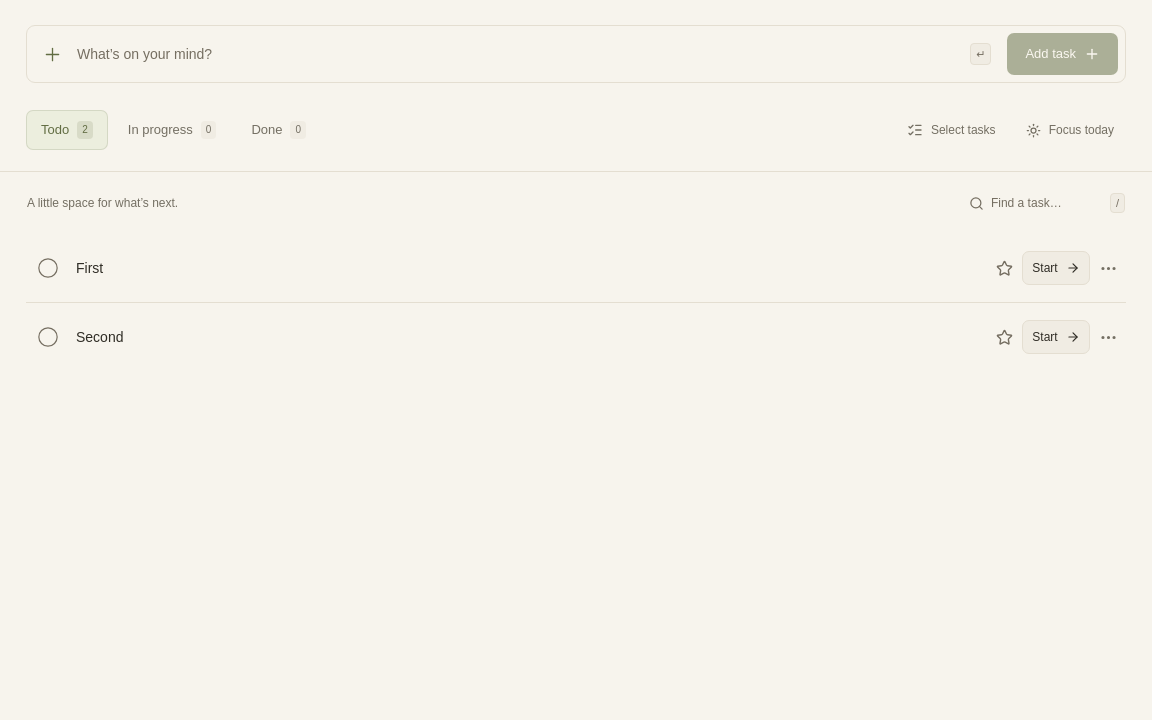
Test: places selection before Focus today and resets the destination when cancelled from that button
Click the button "Select tasks" at [951, 130], box [895,108,1008,152]
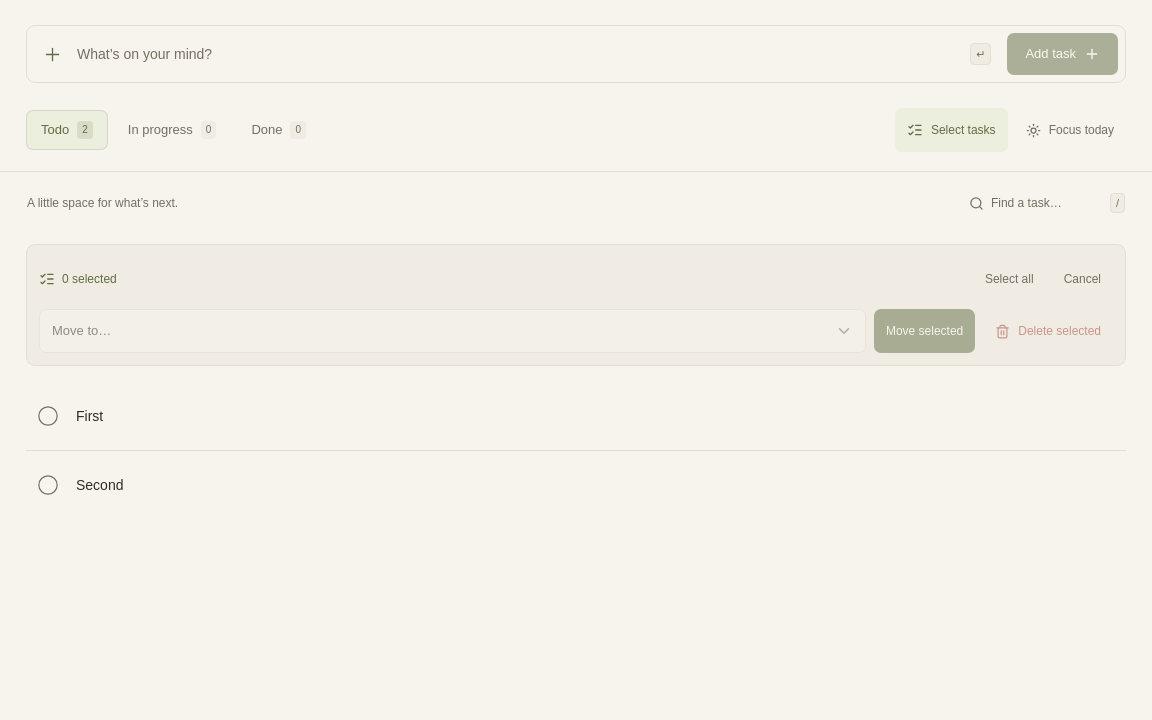
Click the button "Select all" at [1009, 279], box [973,257,1046,301]
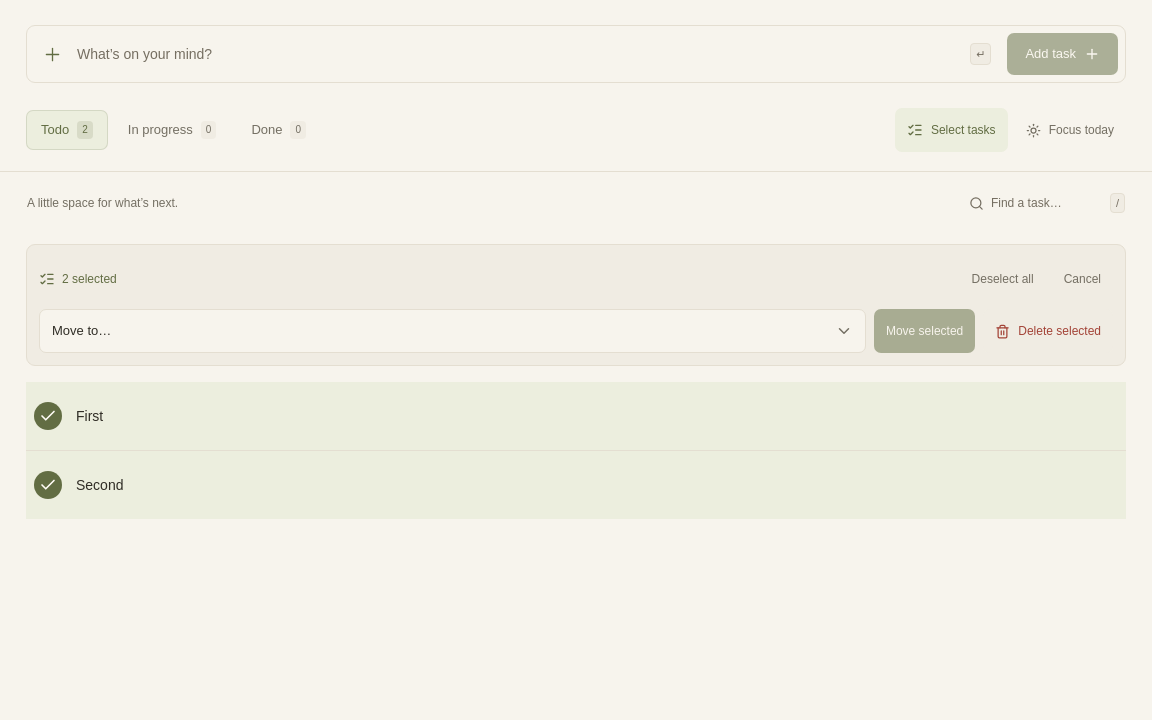
Press ArrowDown in the button "Move to…", box [39,309,866,353]
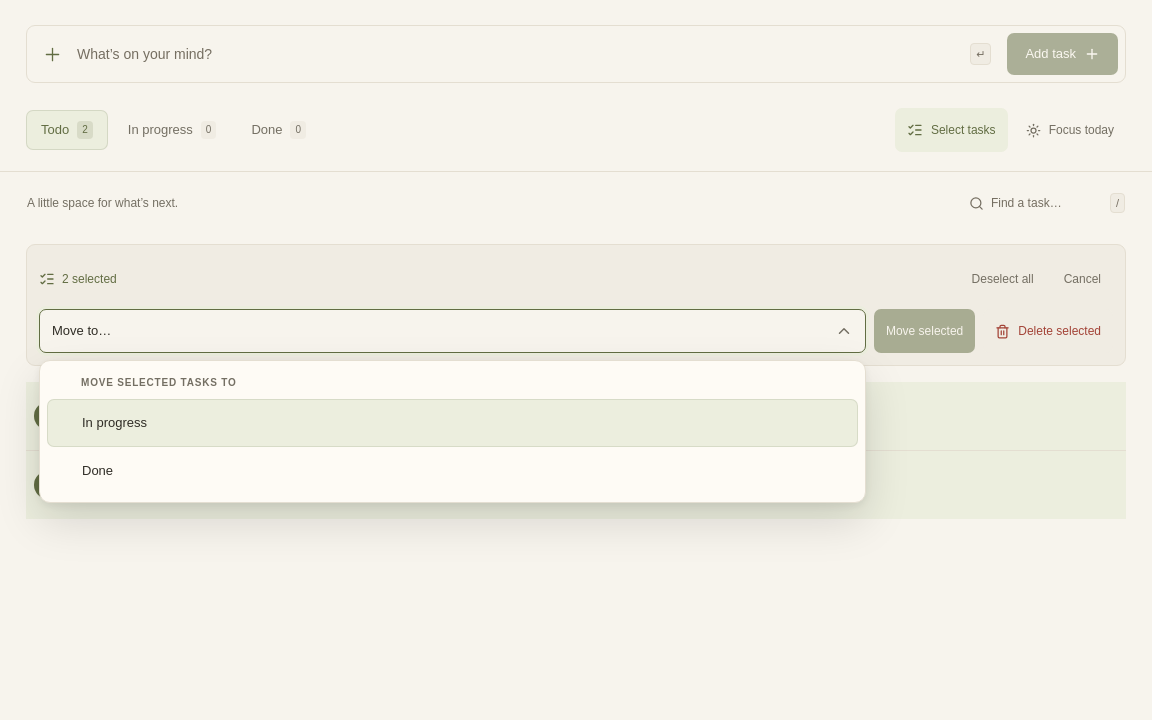
Press Enter in the menu item "Done", box [82,463,113,478]
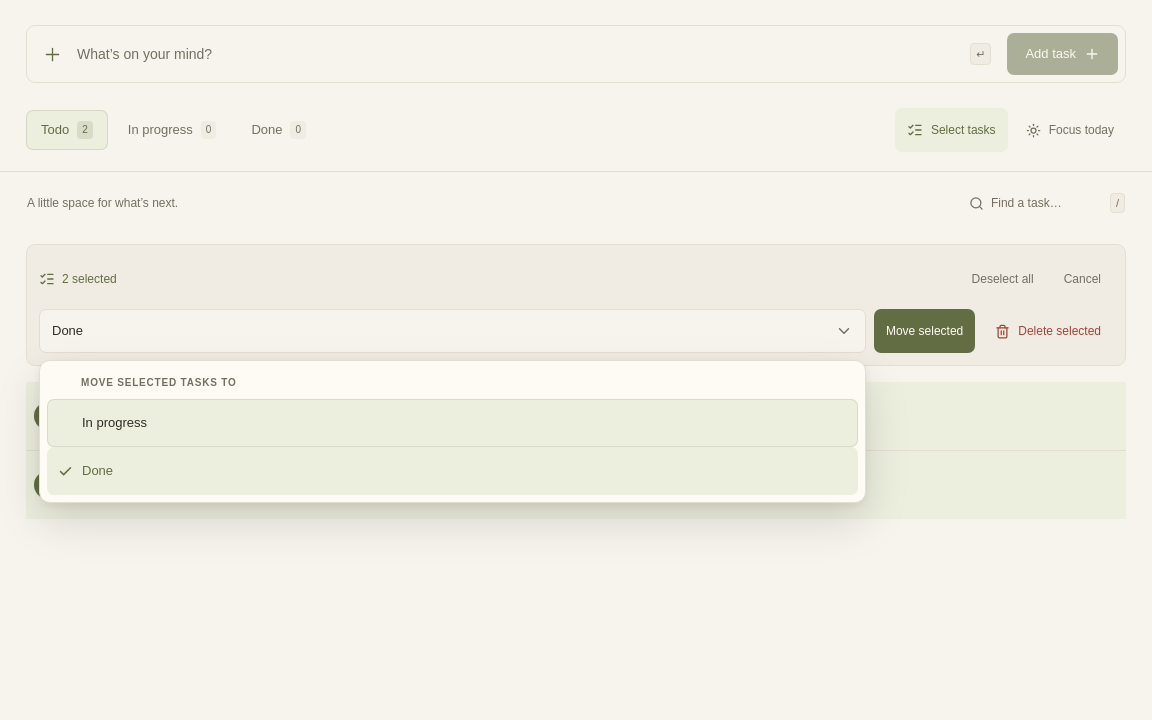
Click the button "Select tasks" at [951, 130], box [895,108,1008,152]
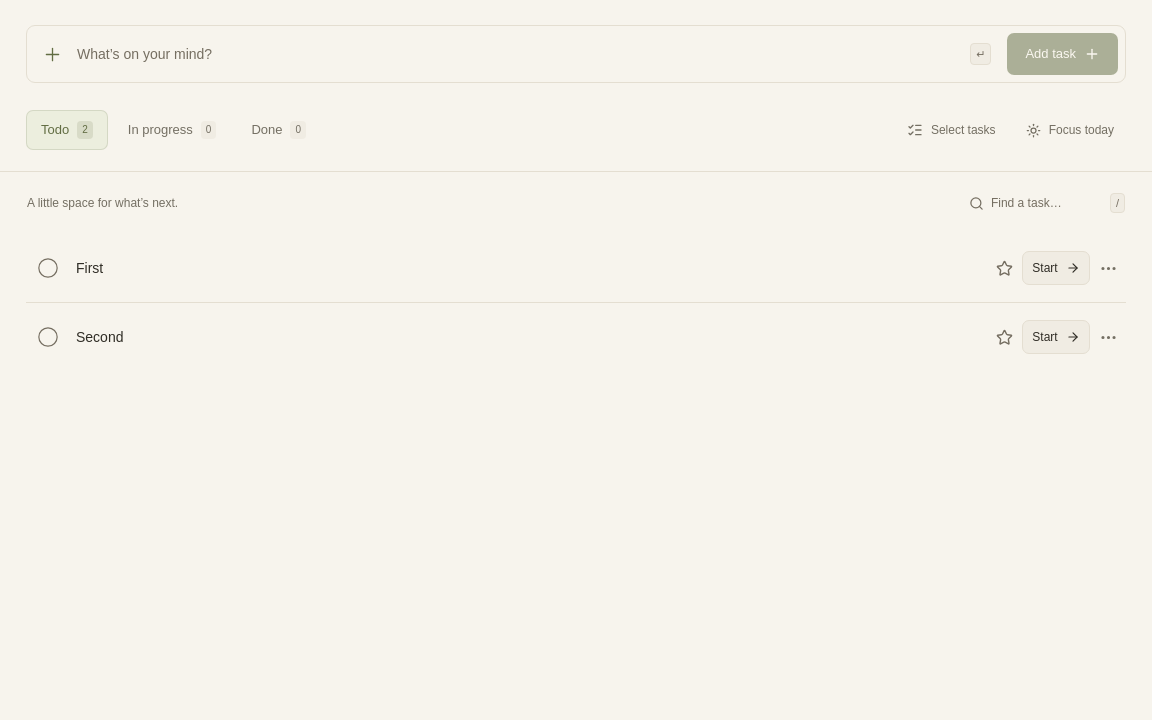
Now the button "Select tasks" is not pressed
Click the button "Select tasks" at [951, 130], box [895,108,1008,152]
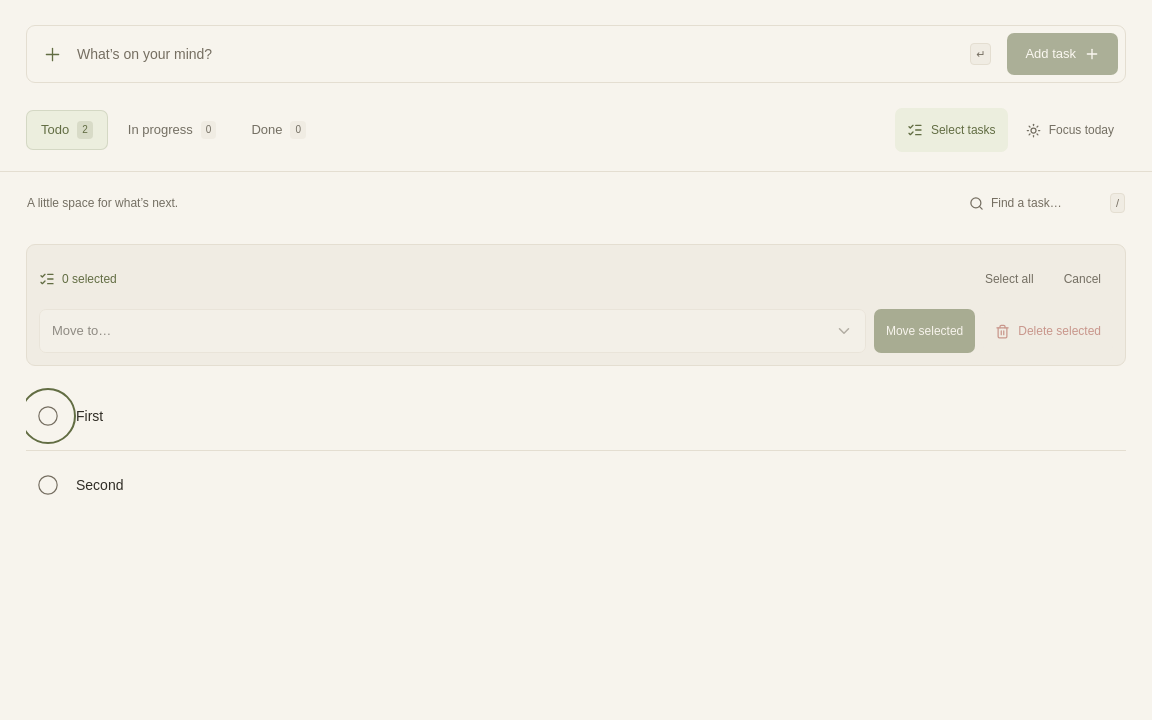
Now the text "0 selected" is shown, box [39,270,117,288]
Now the button "Move to…" is shown, box [39,309,866,353]
